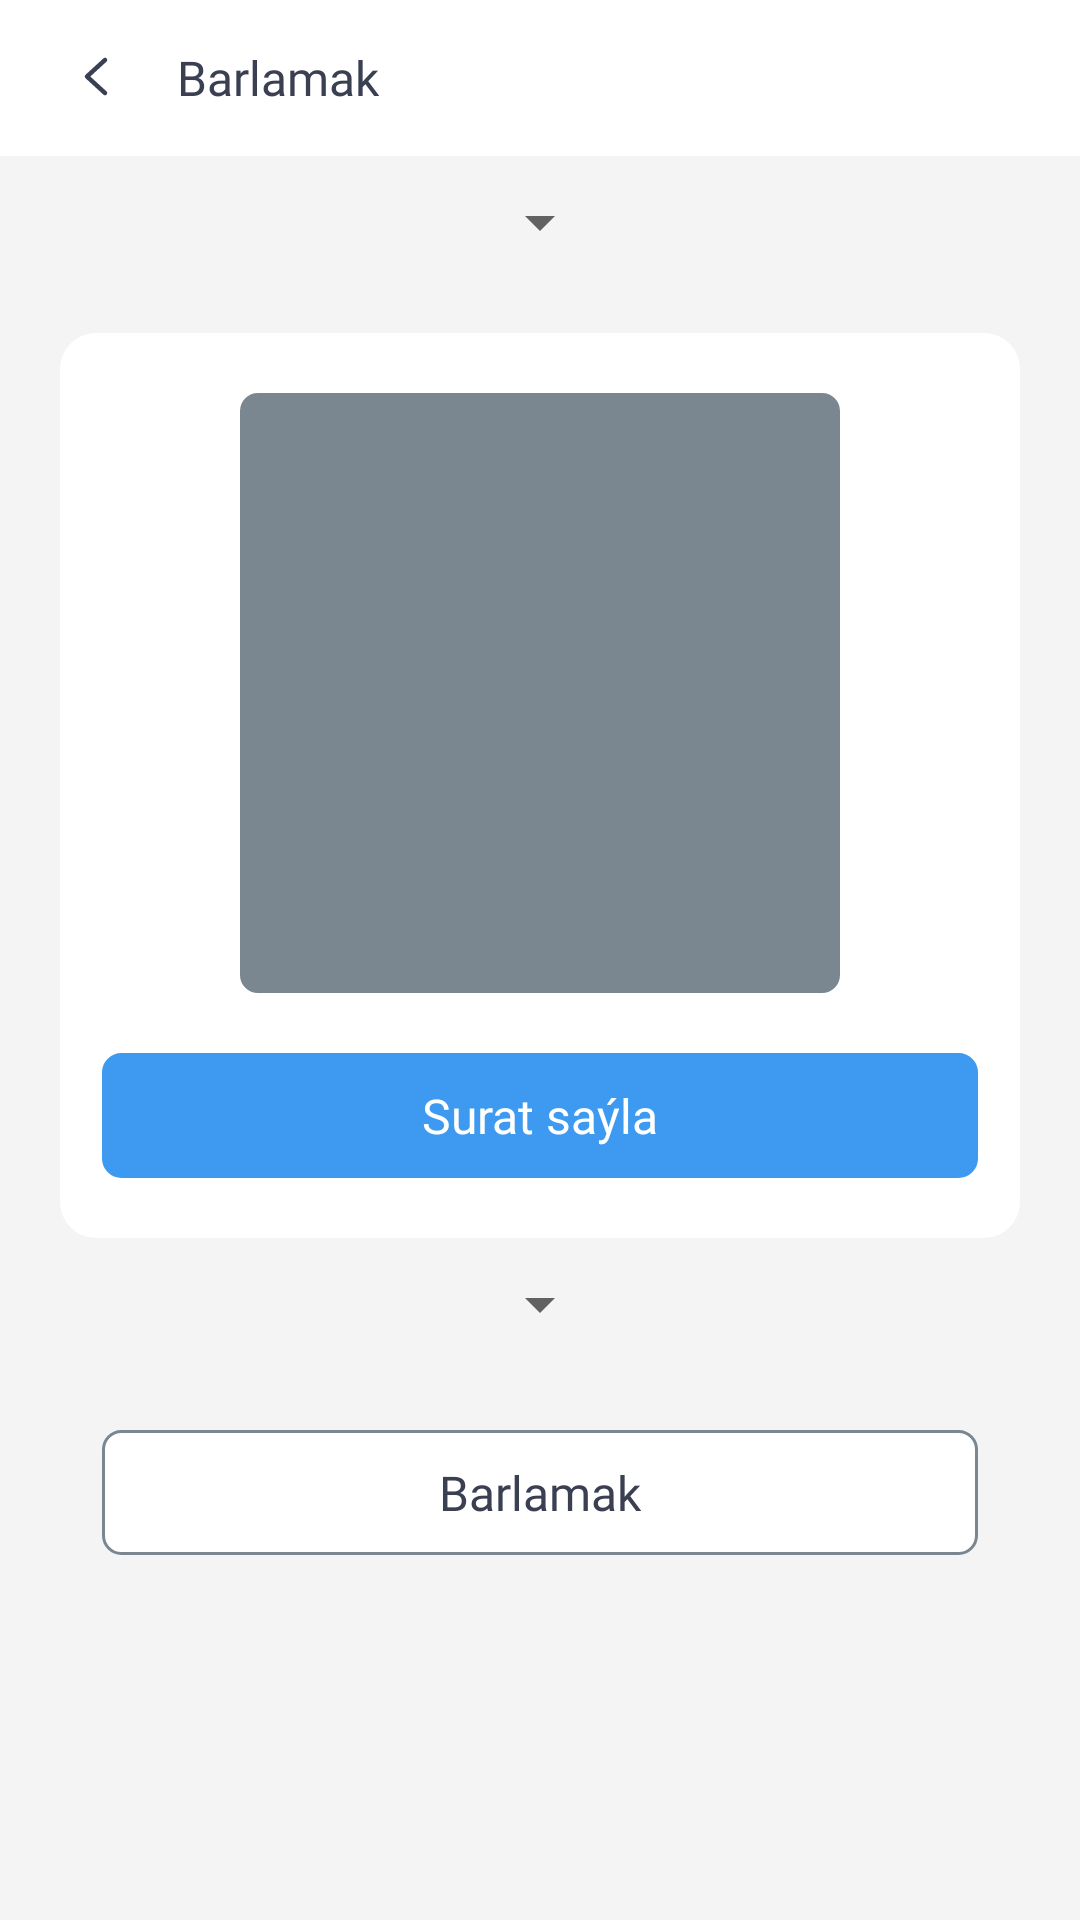

Where icons sit on this 1080w x 1920h app screen, as (x1, y1, x2, y2):
back: (84, 57, 108, 96)
